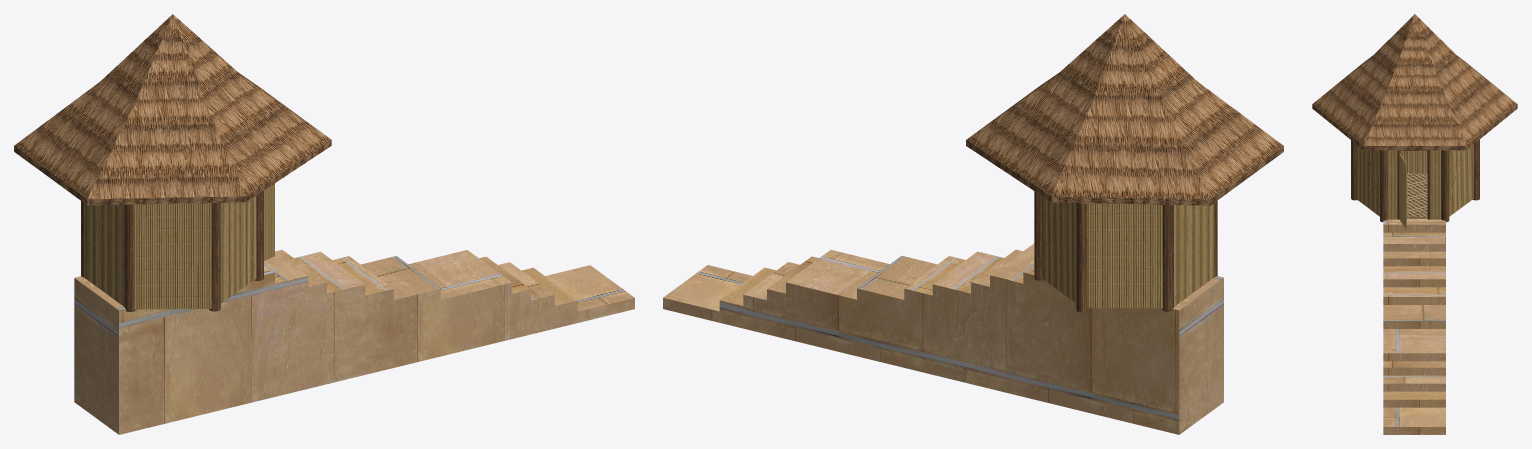
The model's file is pequena.fbx.
3 renders of one model, left to right at view 1: azimuth 30°, elevation 25°; view 2: azimuth 150°, elevation 25°; view 3: azimuth 270°, elevation 25°, orthographic. The views are drawn at different scales.
Visible parts, largest first — view 1: Cube.023, Circle.001, Cube.016, Cube.019, Cube.017, Cylinder.048, Cylinder.046, Cube.021, Cylinder.045; view 2: Cube.023, Circle.001, Cube.015, Cube.019, Cube.018, Cylinder.047, Cylinder.043, Cylinder.044; view 3: Circle.001, Cube.023, Cube.018, Cube.017, Circle, Cube.020, Cube.014, Cylinder.044, Cylinder.045, Cube.019, Cube.021, Cylinder.047 (+3 smaller).
Boxes of the visible parts, box(x1,y1,x2,y2) form: Cube.023: box(74, 249, 634, 434); Circle.001: box(14, 14, 331, 205); Cube.016: box(133, 203, 211, 309); Cube.019: box(84, 203, 124, 306); Cube.017: box(220, 195, 256, 303); Cylinder.048: box(209, 203, 220, 311); Cylinder.046: box(124, 204, 135, 311); Cube.021: box(264, 183, 274, 260); Cylinder.045: box(254, 191, 263, 280); Cube.023: box(663, 243, 1223, 434); Circle.001: box(966, 14, 1283, 205); Cube.015: box(1087, 203, 1162, 308); Cube.019: box(1174, 203, 1214, 306); Cube.018: box(1041, 196, 1076, 302); Cylinder.047: box(1076, 203, 1087, 312); Cylinder.043: box(1162, 204, 1173, 311); Cylinder.044: box(1034, 191, 1043, 280); Circle.001: box(1312, 14, 1517, 150); Cube.023: box(1383, 218, 1445, 434); Cube.018: box(1449, 144, 1473, 216); Cube.017: box(1356, 144, 1379, 216); Circle: box(1407, 173, 1427, 218); Cube.020: box(1430, 150, 1441, 219); Cube.014: box(1387, 150, 1397, 219); Cylinder.044: box(1441, 150, 1449, 222); Cylinder.045: box(1380, 150, 1387, 222); Cube.019: box(1400, 150, 1427, 173); Cube.021: box(1399, 154, 1406, 229); Cylinder.047: box(1472, 139, 1479, 200).
Bounding box in the file's own units: 11.88 × 5.37 × 7.8.
